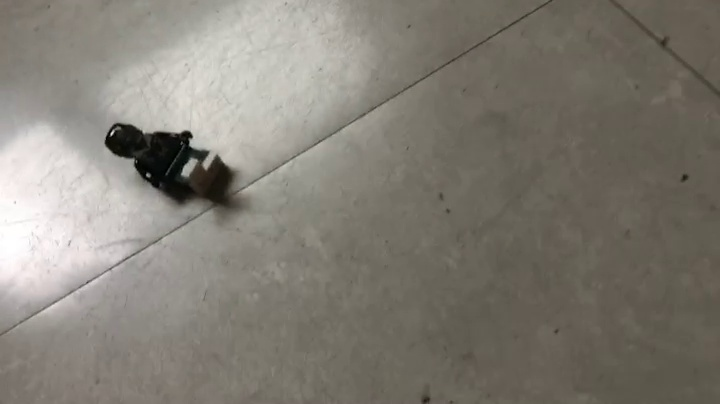people: (102, 123, 237, 201)
